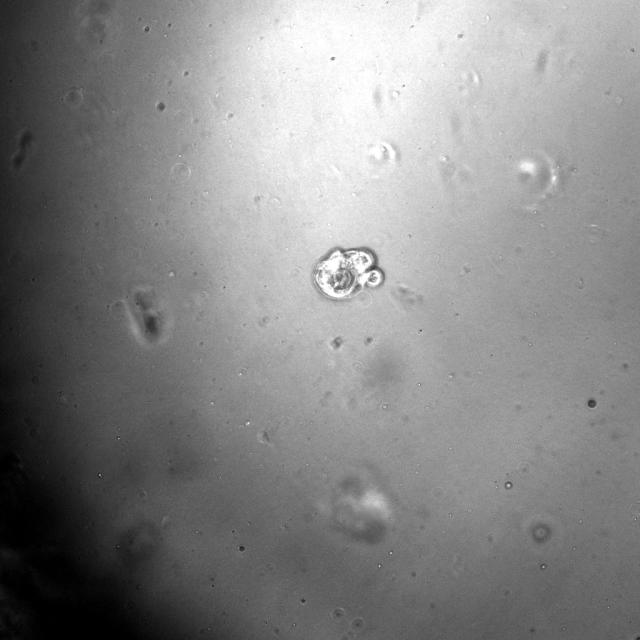organoid: (312, 249, 383, 299), (587, 399, 596, 408)
